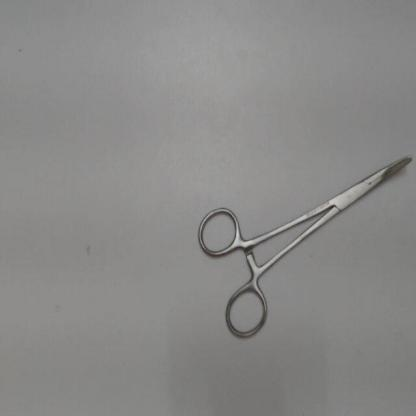Crile Artery Forceps: (193, 146, 415, 349)
